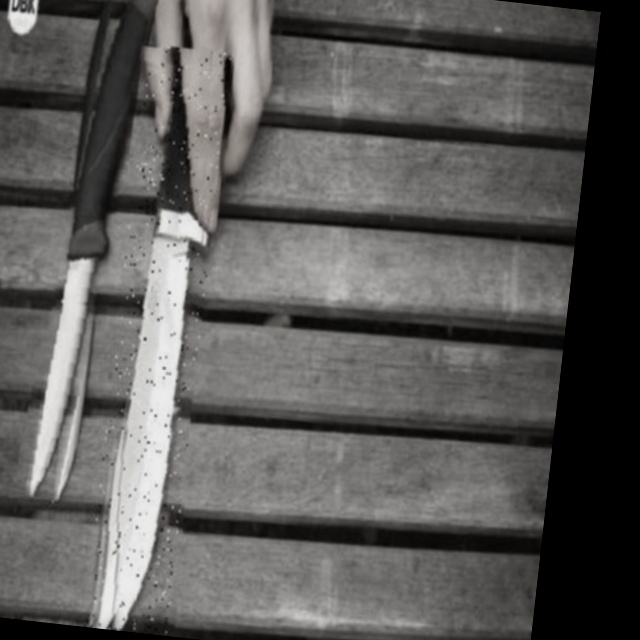Sharp-Object: (84, 44, 231, 636), (24, 0, 148, 505)
